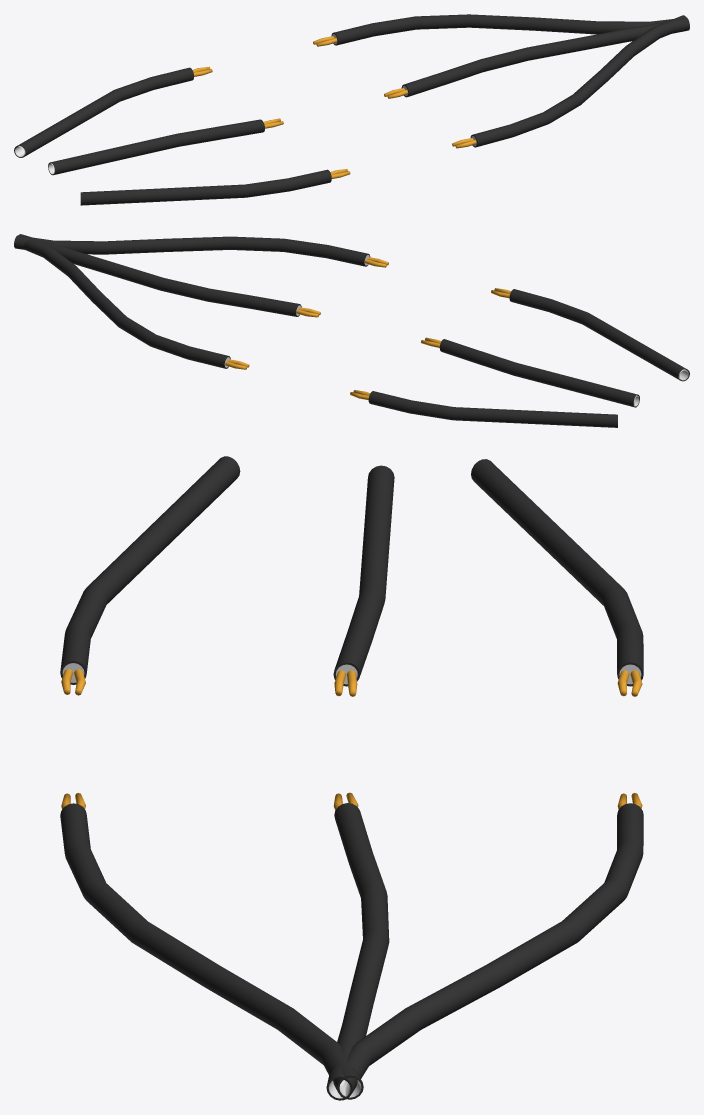
Rendered from Kablovi.fbx.
3 renders of one model, top to bottom at view 1: azimuth 30°, elevation 25°; view 2: azimuth 150°, elevation 25°; view 3: azimuth 270°, elevation 25°, orthographic. The views are drawn at different scales.
Parts seen in each view (by area): view 1: Kabel_3, Kabel_2, Kabel_-1, KABEL_1, Kabel_-2, Kabel_-3; view 2: KABEL_1, Kabel_2, Kabel_-3, Kabel_3, Kabel_-2, Kabel_-1; view 3: Kabel_3, KABEL_1, Kabel_-1, Kabel_-3, Kabel_2, Kabel_-2.
Part boxes in pixels (bbox=[...]): Kabel_3: bbox=[313, 14, 686, 46]; Kabel_2: bbox=[384, 18, 689, 98]; Kabel_-1: bbox=[80, 169, 350, 205]; KABEL_1: bbox=[452, 15, 686, 148]; Kabel_-2: bbox=[48, 118, 283, 175]; Kabel_-3: bbox=[14, 66, 212, 157]; KABEL_1: bbox=[14, 235, 388, 267]; Kabel_2: bbox=[20, 234, 320, 317]; Kabel_-3: bbox=[350, 390, 617, 427]; Kabel_3: bbox=[18, 234, 249, 369]; Kabel_-2: bbox=[421, 337, 639, 407]; Kabel_-1: bbox=[491, 288, 689, 381]; Kabel_3: bbox=[326, 793, 643, 1100]; KABEL_1: bbox=[60, 793, 363, 1099]; Kabel_-1: bbox=[60, 456, 240, 695]; Kabel_-3: bbox=[471, 459, 643, 696]; Kabel_2: bbox=[327, 792, 389, 1098]; Kabel_-2: bbox=[333, 465, 394, 696].
Bounding box in the file's own units: 3.19 × 0.0603 × 1.26.
